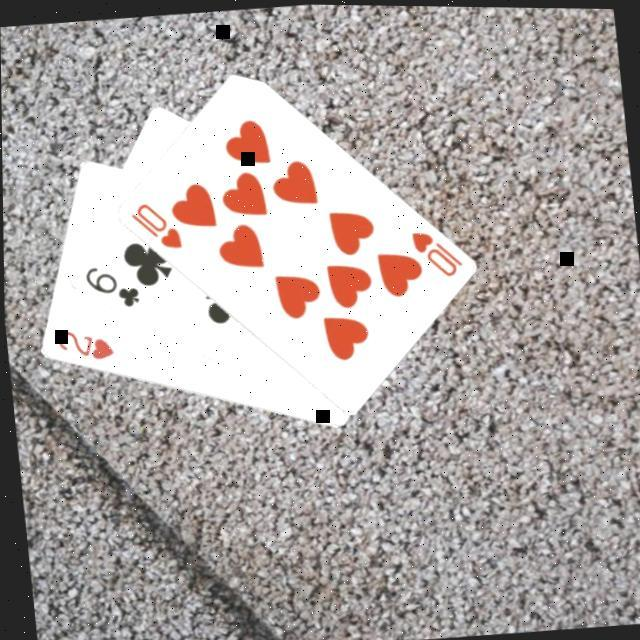10H: (122, 197, 182, 257), (404, 224, 464, 284)
2H: (49, 324, 115, 368)
6C: (77, 260, 140, 316)
